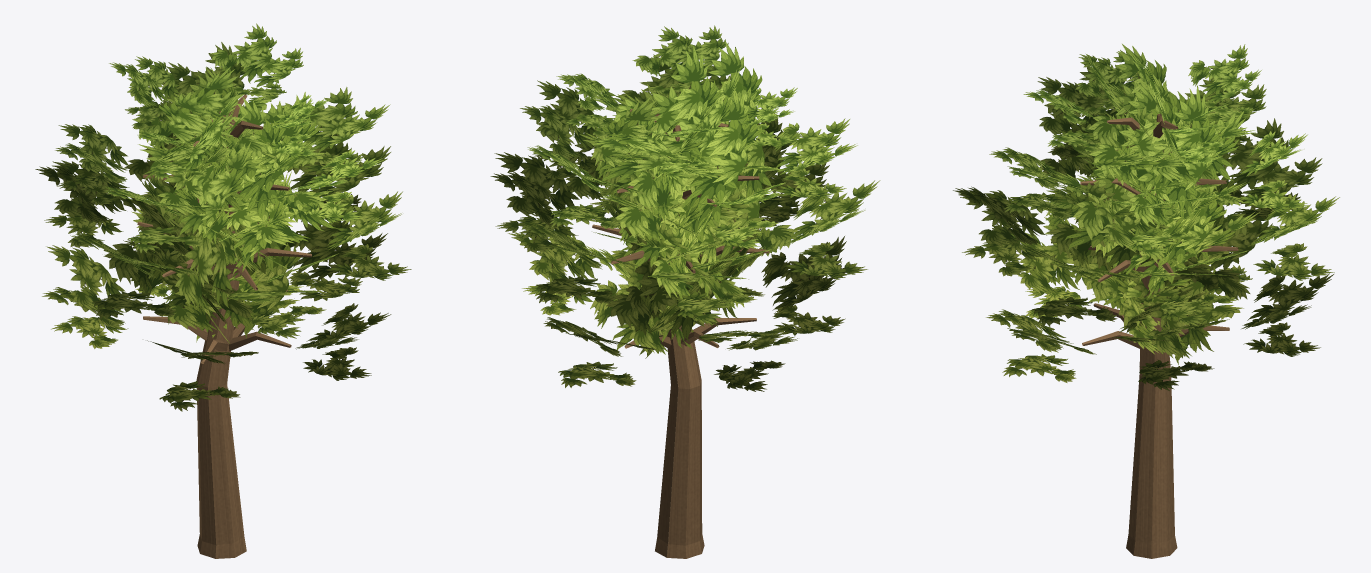
The model's file is maple2_s.glb.
3 renders of one model, left to right at view 1: azimuth 30°, elevation 25°; view 2: azimuth 150°, elevation 25°; view 3: azimuth 270°, elevation 25°, orthographic.
Parts seen in each view (by area): view 1: maple2_s; view 2: maple2_s; view 3: maple2_s.
Boxes of the visible parts, <box> form: maple2_s: <box>35,23,411,558</box>; maple2_s: <box>490,25,880,558</box>; maple2_s: <box>953,44,1339,558</box>.
Bounding box in the file's own units: 3.54 × 4.57 × 3.51.
2 materials, 2 textured.
